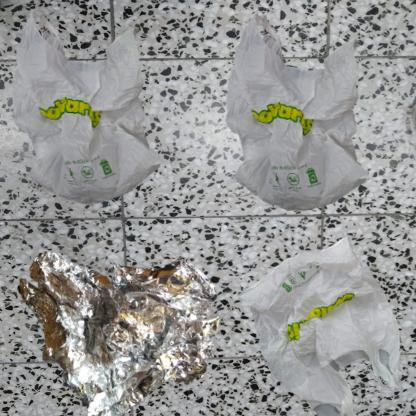aluminio: (10, 213, 249, 416)
bolsa: (213, 213, 416, 416), (213, 10, 392, 226), (10, 10, 166, 206)
